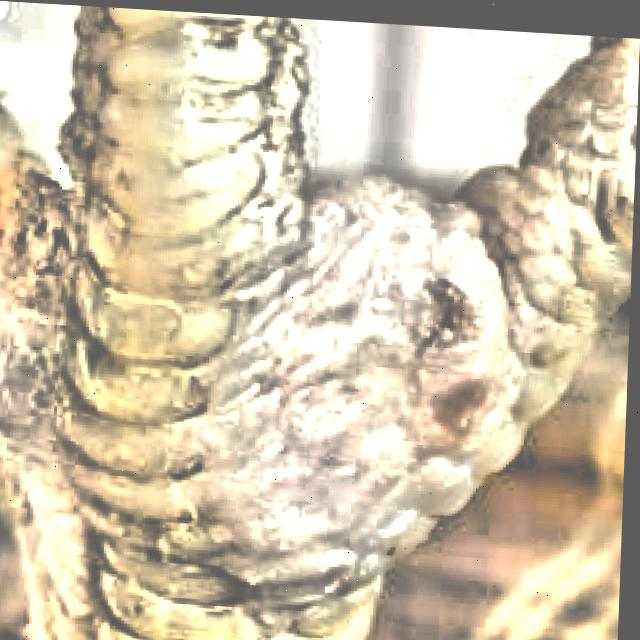Bumble foot: (139, 102, 557, 616)
